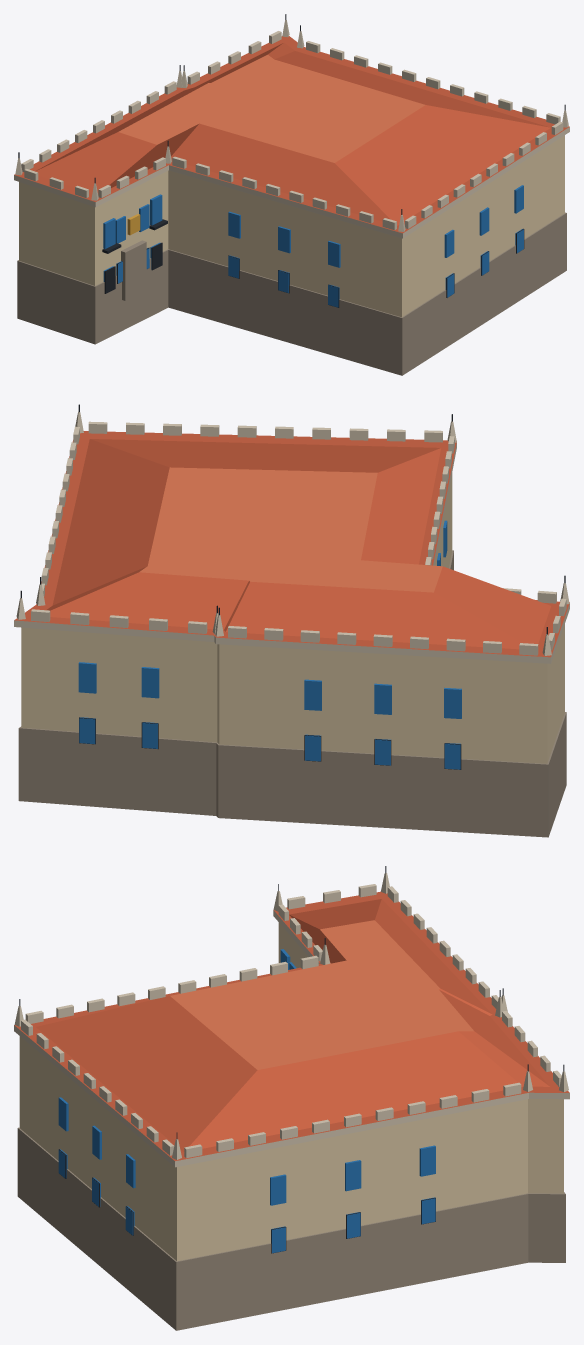
3 renders of one model, top to bottom at view 1: azimuth 30°, elevation 25°; view 2: azimuth 150°, elevation 25°; view 3: azimuth 270°, elevation 25°, orthographic. The views are drawn at different scales.
Parts seen in each view (by area): view 1: w382363931_PalacioVeletas; view 2: w382363931_PalacioVeletas; view 3: w382363931_PalacioVeletas.
Part boxes in pixels (x1,y1,x2,y2): w382363931_PalacioVeletas: [14, 14, 569, 375]; w382363931_PalacioVeletas: [14, 404, 569, 837]; w382363931_PalacioVeletas: [14, 866, 569, 1330].
Bounding box in the file's own units: 42.27 × 14.45 × 36.67.
Materials: 2 (2 with a texture image).
